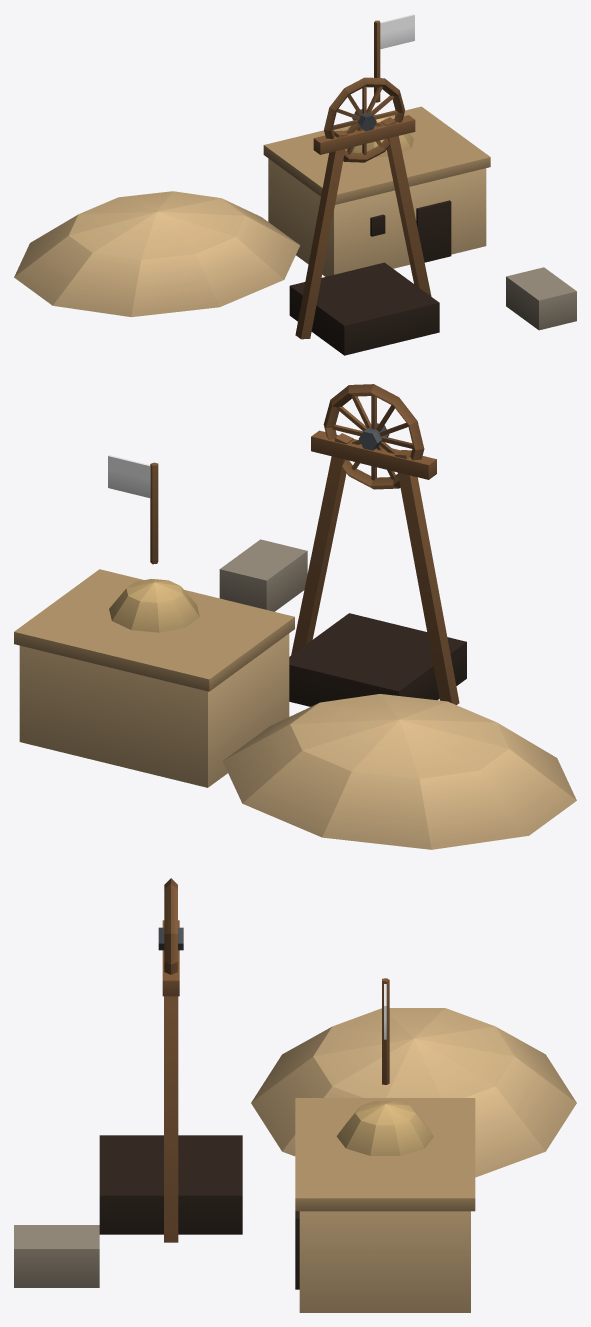
The model's file is MINE_MA.glb.
3 renders of one model, top to bottom at view 1: azimuth 30°, elevation 25°; view 2: azimuth 150°, elevation 25°; view 3: azimuth 270°, elevation 25°, orthographic. The views are drawn at different scales.
Parts seen in each view (by area): view 1: Body, Wheel_head, Flag; view 2: Body, Wheel_head, Flag; view 3: Body, Wheel_head.
Boxes of the visible parts, x1,y1,x2,y2 form: Body: [14, 20, 576, 355]; Wheel_head: [324, 77, 404, 162]; Flag: [380, 14, 414, 49]; Body: [14, 430, 576, 849]; Wheel_head: [323, 384, 424, 489]; Flag: [108, 455, 150, 498]; Body: [14, 920, 576, 1312]; Wheel_head: [158, 878, 183, 974].
Bounding box in the file's own units: 4.33 × 2.48 × 3.94.
1 material, 1 textured.
